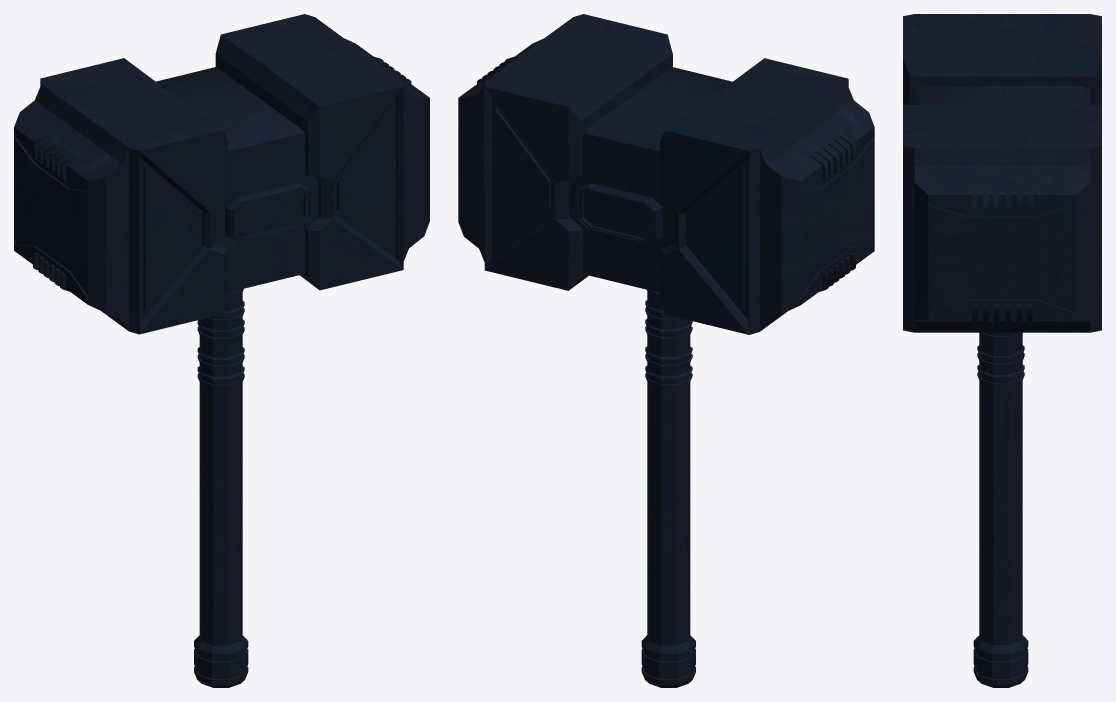
Rendered from NewHammer.fbx.
3 views of the same model, side by side, from view 1: azimuth 30°, elevation 25°; view 2: azimuth 150°, elevation 25°; view 3: azimuth 270°, elevation 25° (orthographic).
Visible parts, largest first — view 1: HammerHead, Manche, DécoHammer, NéonFace; view 2: HammerHead, Manche, DécoHammer, NéonBack; view 3: HammerHead, Manche, NéonRight, NéonManche.
Part boxes in pixels (bbox=[...]): HammerHead: bbox=[14, 14, 429, 334]; Manche: bbox=[194, 288, 248, 687]; DécoHammer: bbox=[225, 182, 309, 241]; NéonFace: bbox=[140, 98, 395, 318]; HammerHead: bbox=[458, 14, 874, 334]; Manche: bbox=[641, 290, 695, 687]; DécoHammer: bbox=[577, 183, 662, 242]; NéonBack: bbox=[492, 98, 747, 319]; HammerHead: bbox=[903, 14, 1101, 332]; Manche: bbox=[973, 332, 1028, 687]; NéonRight: bbox=[928, 200, 1076, 312]; NéonManche: bbox=[981, 332, 1021, 382].
Size of the model in its own units: 184 by 301 by 90.58.
